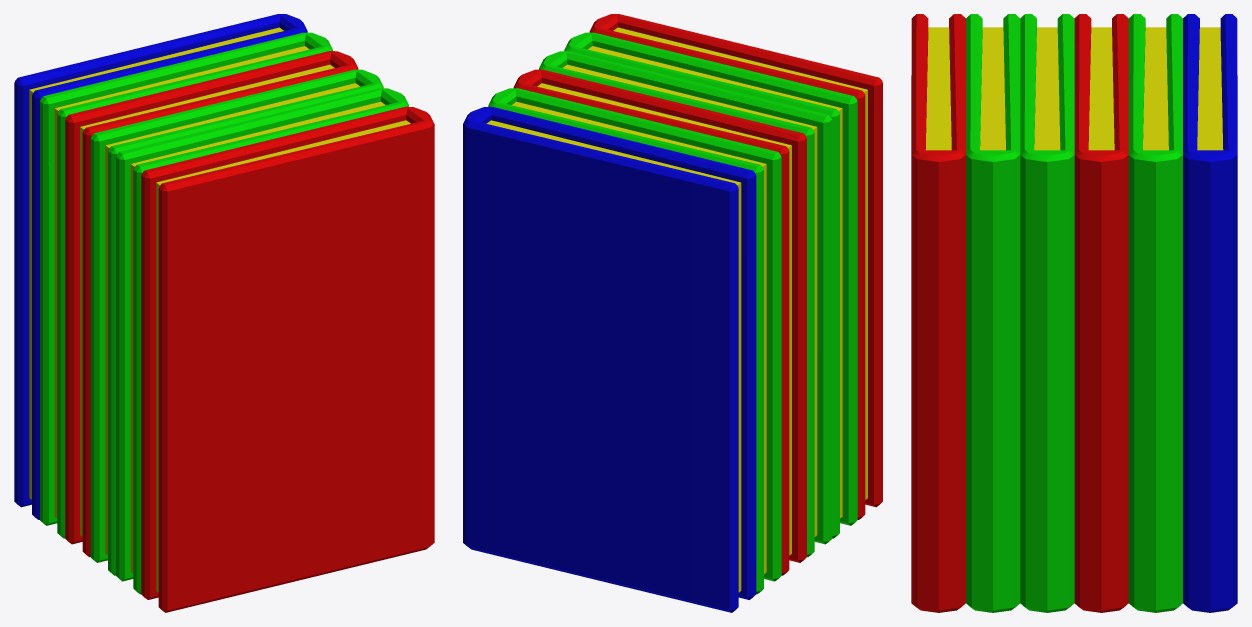
File: medium_books.fbx
3 views of the same model, side by side, from view 1: azimuth 30°, elevation 25°; view 2: azimuth 150°, elevation 25°; view 3: azimuth 270°, elevation 25° (orthographic). The views are drawn at different scales.
Visible parts, largest first — view 1: bloodstack_medium; view 2: bloodstack_medium; view 3: bloodstack_medium.
Boxes of the visible parts, <box> form: bloodstack_medium: <box>14,14,434,612</box>; bloodstack_medium: <box>463,14,882,612</box>; bloodstack_medium: <box>911,14,1237,612</box>.
Size of the model in its own units: 2.8 by 4.1 by 2.65.
